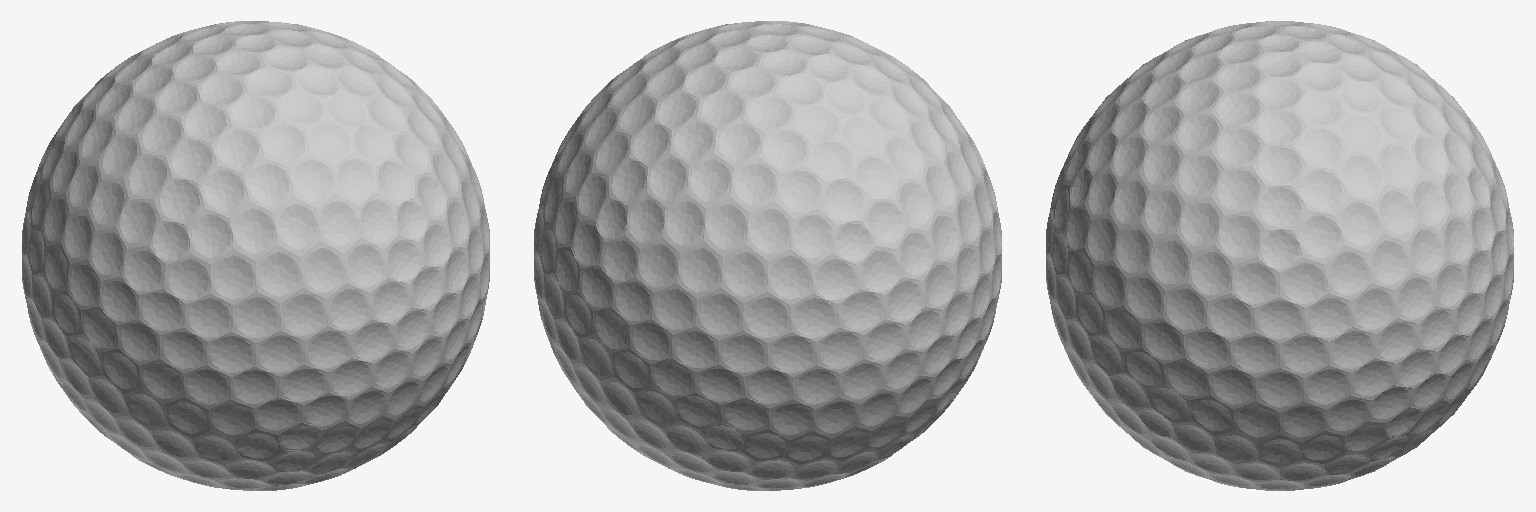
Rendered from golfball.obj.
The picture shows the model from 3 angles: view 1: azimuth 30°, elevation 25°; view 2: azimuth 150°, elevation 25°; view 3: azimuth 270°, elevation 25°; orthographic projection.
Parts seen in each view (by area): view 1: GeoSphere001_Dml001; view 2: GeoSphere001_Dml001; view 3: GeoSphere001_Dml001.
Boxes of the visible parts, <box> form: GeoSphere001_Dml001: <box>22,21,489,490</box>; GeoSphere001_Dml001: <box>534,21,1001,490</box>; GeoSphere001_Dml001: <box>1046,21,1513,490</box>.
Bounding box in the file's own units: 4.21 × 4.2 × 4.2.